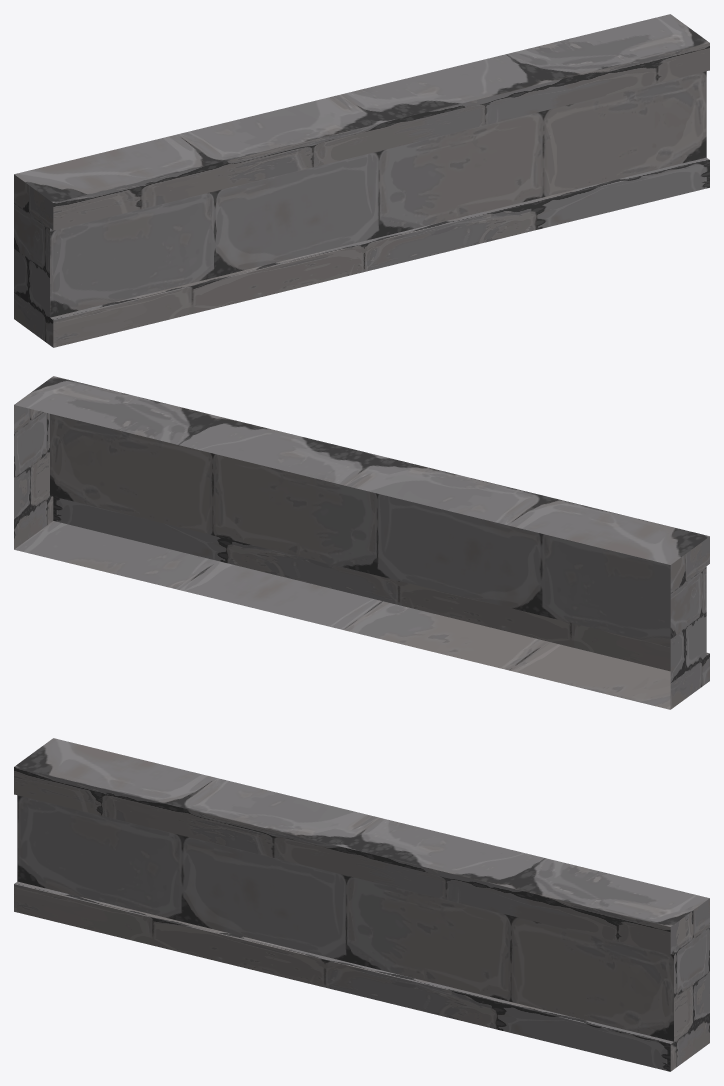
The model's file is wall_support.fbx.
The picture shows the model from 3 angles, top to bottom: view 1: azimuth 30°, elevation 25°; view 2: azimuth 150°, elevation 25°; view 3: azimuth 330°, elevation 25°; orthographic projection.
Parts seen in each view (by area): view 1: Support_wall; view 2: Support_wall; view 3: Support_wall.
Boxes of the visible parts, <box> form: Support_wall: <box>14,14,709,347</box>; Support_wall: <box>14,376,709,709</box>; Support_wall: <box>14,738,709,1071</box>.
Bounding box in the file's own units: 100 × 21.07 × 10.4.
